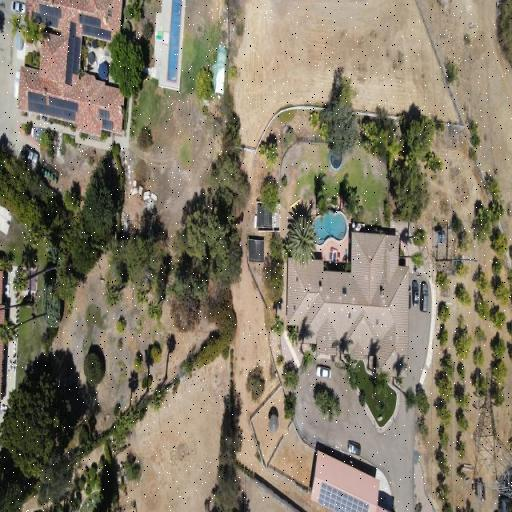solar-panel: (318, 482, 370, 512), (28, 92, 78, 121), (65, 22, 81, 86), (79, 13, 111, 41), (31, 4, 61, 28), (257, 205, 272, 228), (249, 239, 264, 262), (99, 108, 113, 131)
